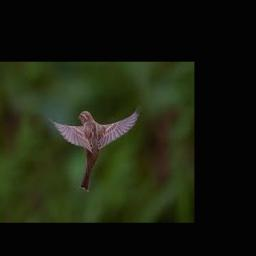Sparrow: (46, 105, 142, 192)
